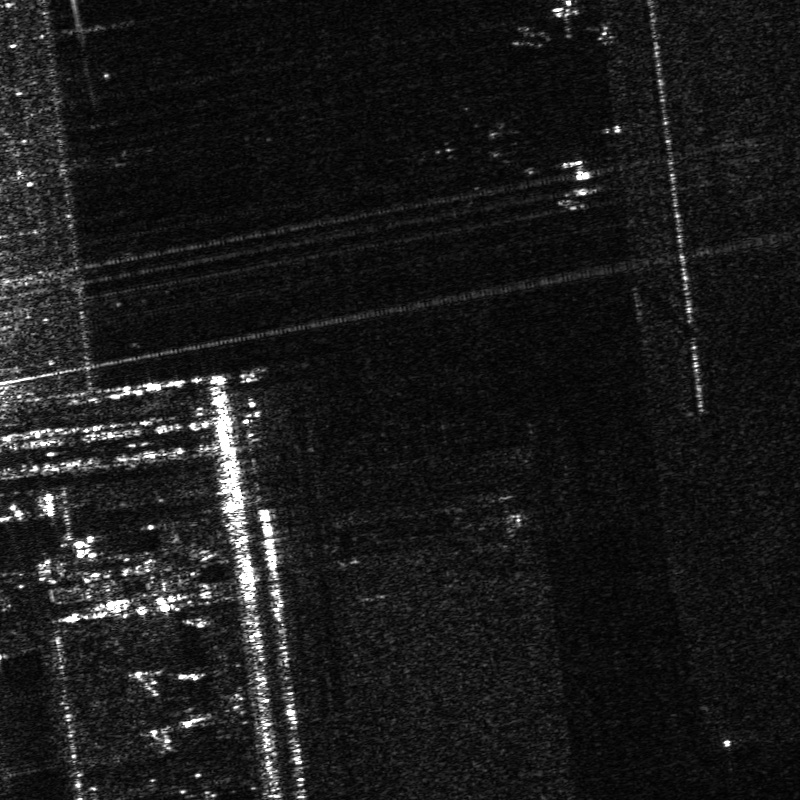Boeing787: (407, 89, 534, 211)
